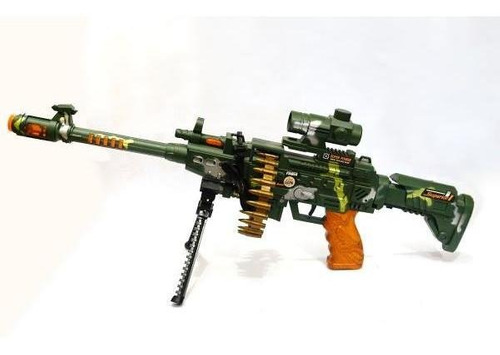Arma Falsa: (4, 102, 479, 306)
